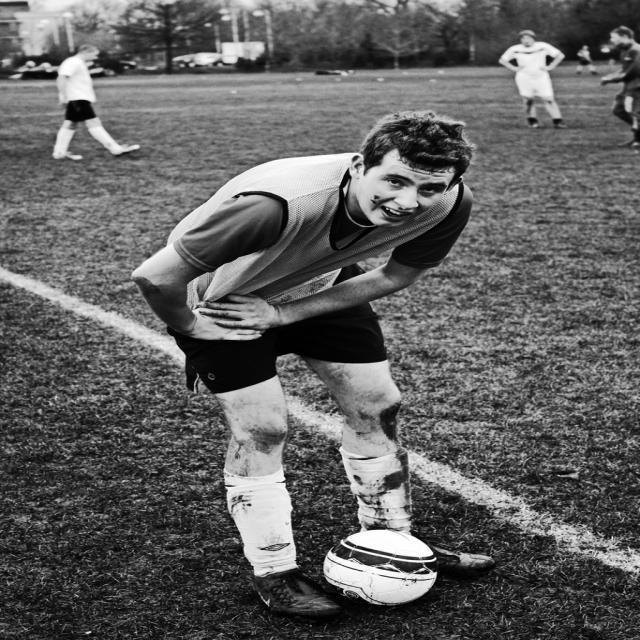football: (313, 515, 463, 610)
